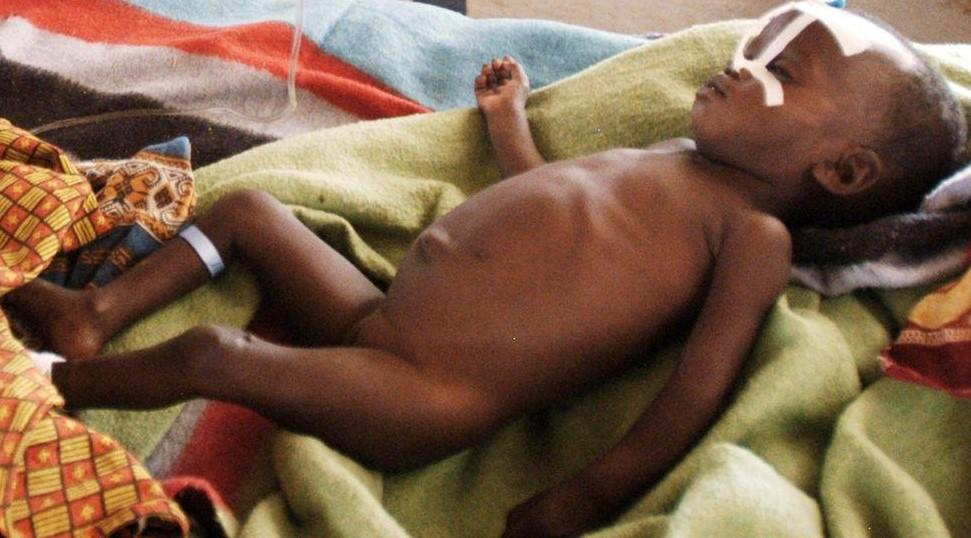Stunting: (650, 0, 971, 226)
